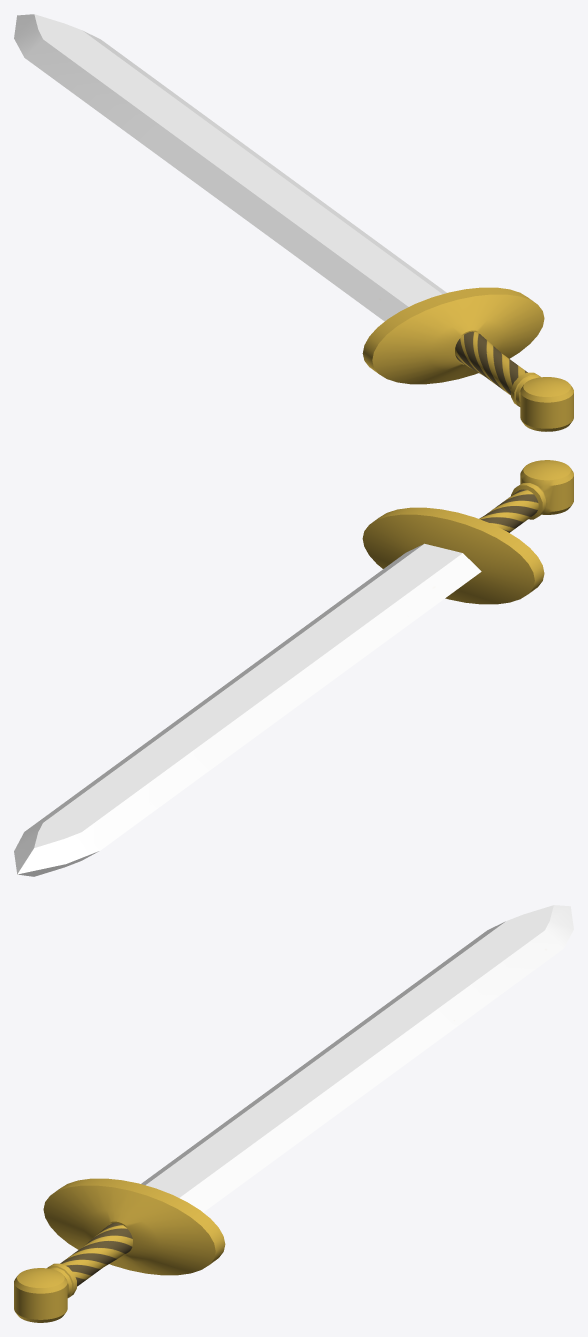
Rendered from Sword_02.fbx.
3 views of the same model, one above another, from view 1: azimuth 30°, elevation 25°; view 2: azimuth 150°, elevation 25°; view 3: azimuth 330°, elevation 25° (orthographic).
Parts seen in each view (by area): view 1: Sword_02; view 2: Sword_02; view 3: Sword_02.
Part boxes in pixels (left/top/right/bottom): Sword_02: left=14, top=14, right=573, bottom=431; Sword_02: left=14, top=460, right=573, bottom=876; Sword_02: left=14, top=905, right=573, bottom=1322.
Bounding box in the file's own units: 0.2071 × 0.0917 × 1.13.
Materials: 1 (1 with a texture image).
